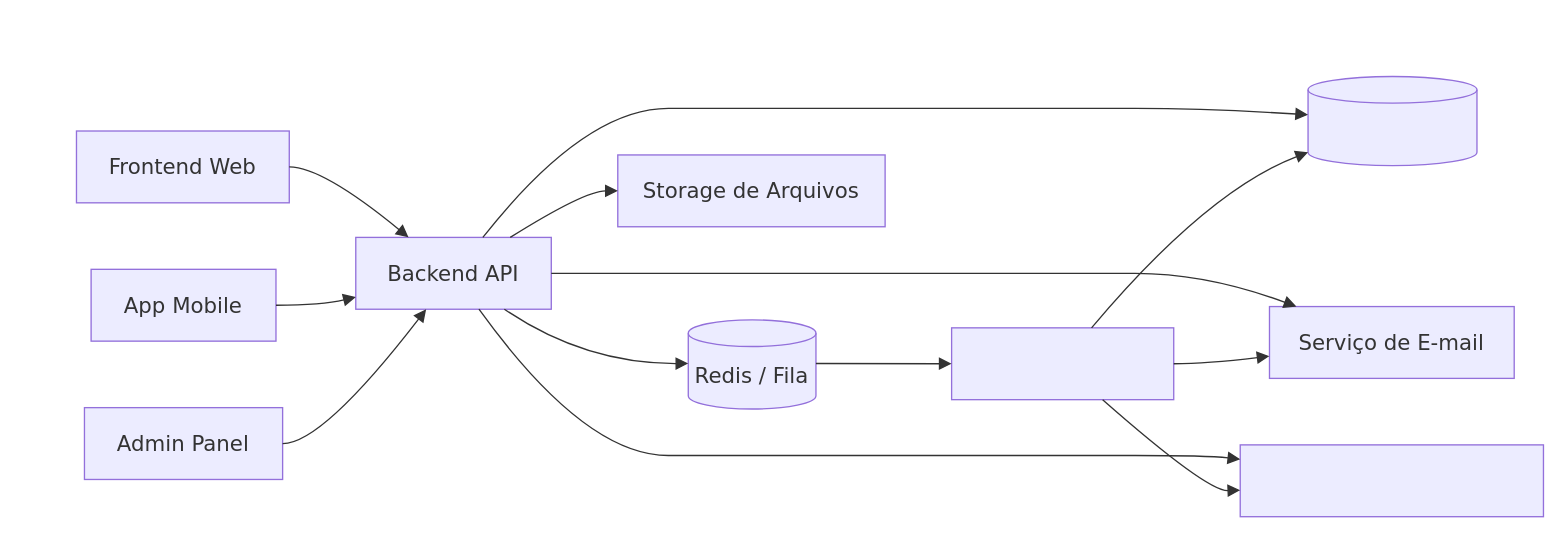
Image size: 1567x540. Some labels were removed from this diagram. The shapes that lost their labels are listed below. From the top down, each one's centre as x and y in pixels, then its label:
(x=1392, y=120): Banco de Dados
(x=1062, y=363): Workers / Jobs
(x=1391, y=480): Gateway de Pagamento
